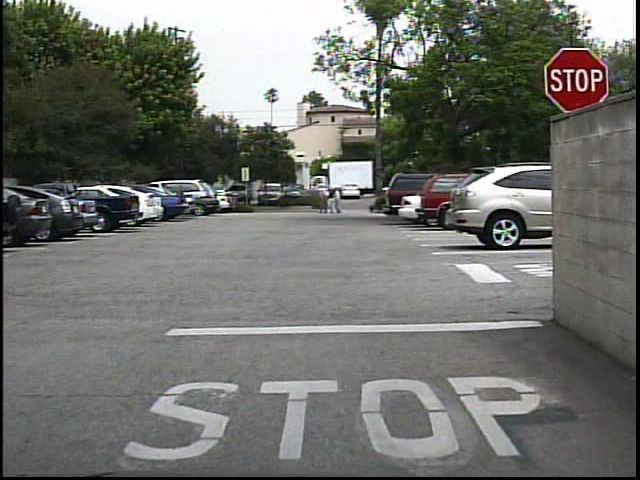person: (333, 187, 350, 217), (318, 186, 333, 215), (335, 187, 336, 217)
